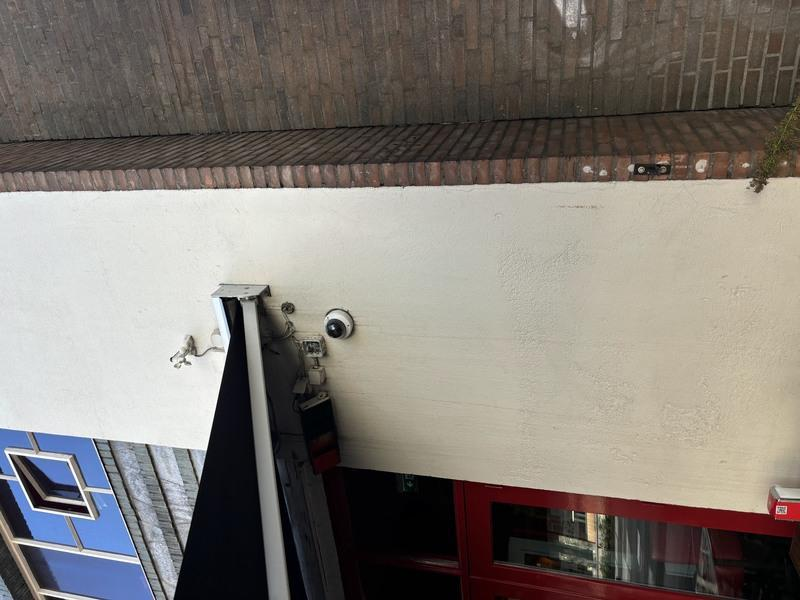dome: (253, 317, 296, 354)
